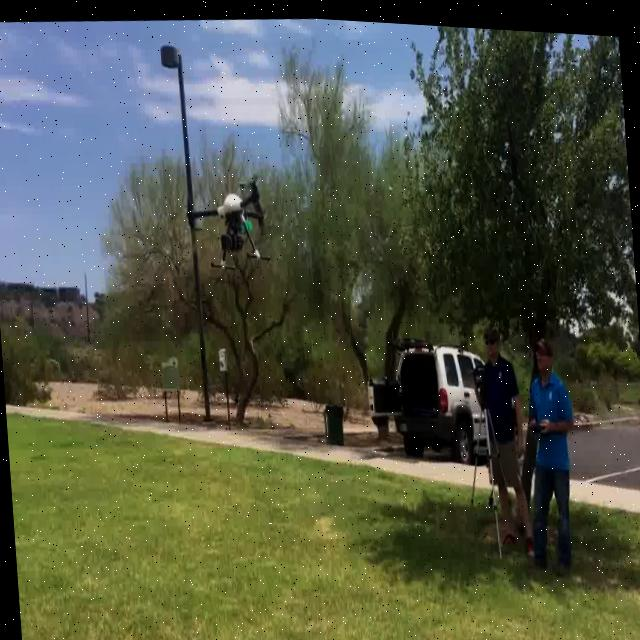drone: (180, 162, 276, 275)
